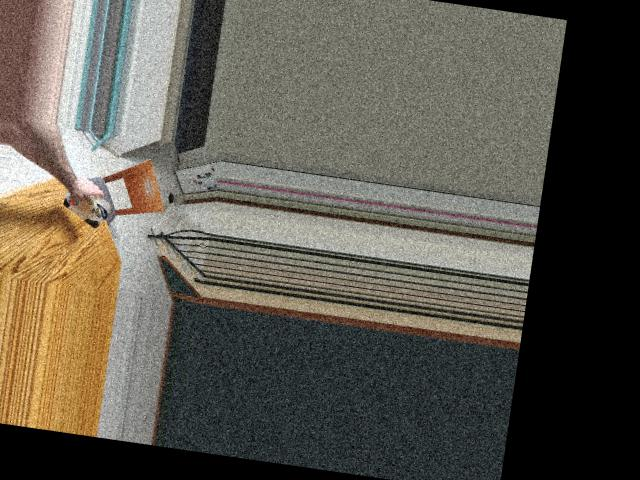cheese: (56, 176, 114, 229)
